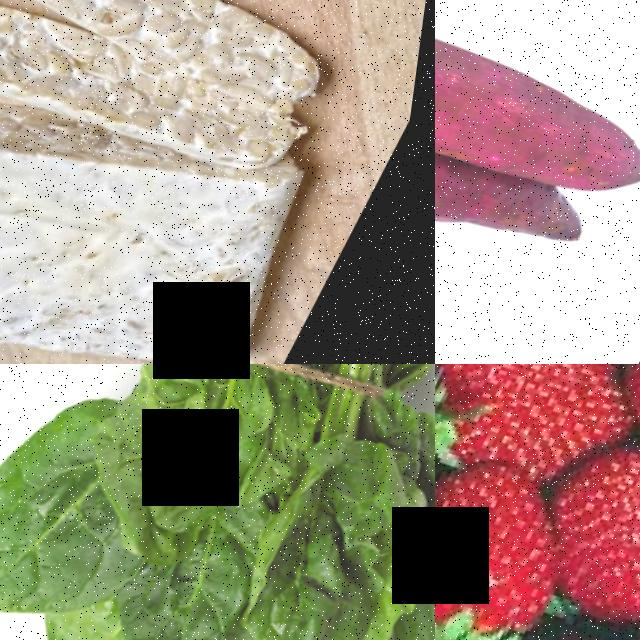spinach: (225, 430, 435, 640), (129, 364, 306, 550), (0, 459, 169, 640), (112, 517, 282, 640)
strawberry: (435, 483, 595, 640), (562, 455, 640, 640), (435, 364, 640, 430)
sweet potato: (435, 0, 640, 267), (435, 63, 634, 328)
tempeh: (0, 49, 344, 364), (0, 0, 351, 233), (11, 0, 365, 155)
